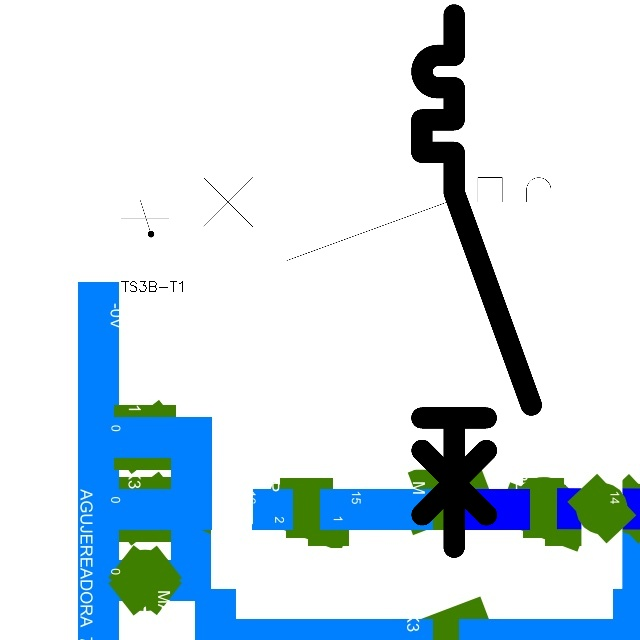interruptor_termomagnetico: (408, 1, 545, 560), (168, 167, 592, 270)
